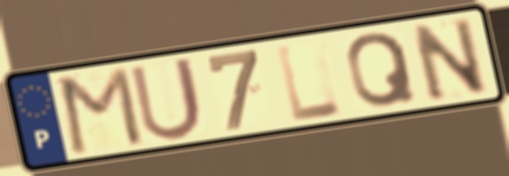7: (204, 47, 262, 133)
L: (273, 40, 346, 125)
M: (56, 64, 147, 158)
N: (406, 14, 492, 105)
Q: (344, 30, 421, 111)
U: (126, 53, 207, 143)
